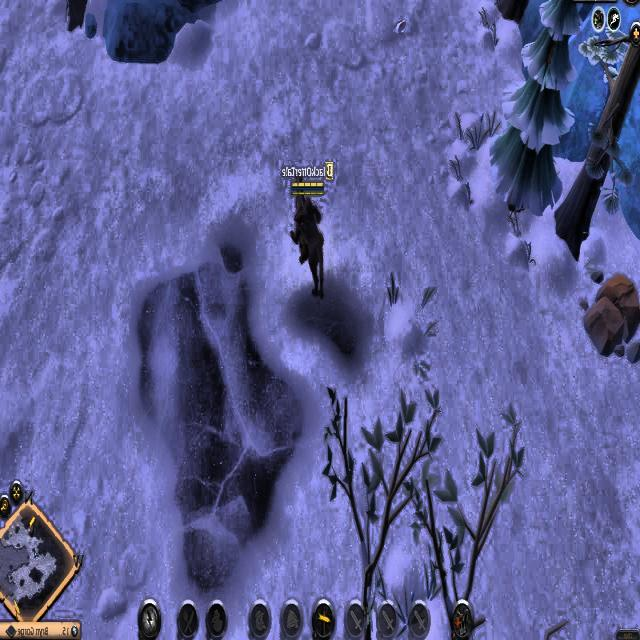limestone: (580, 269, 640, 363)
